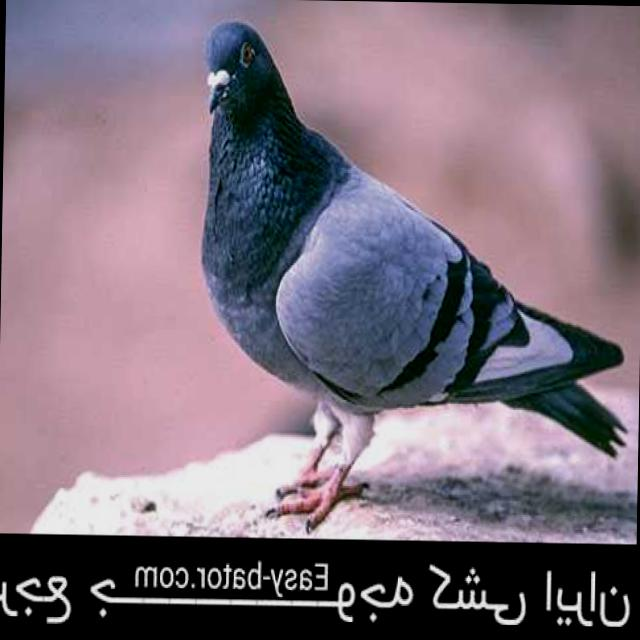bird: (189, 11, 639, 530)
